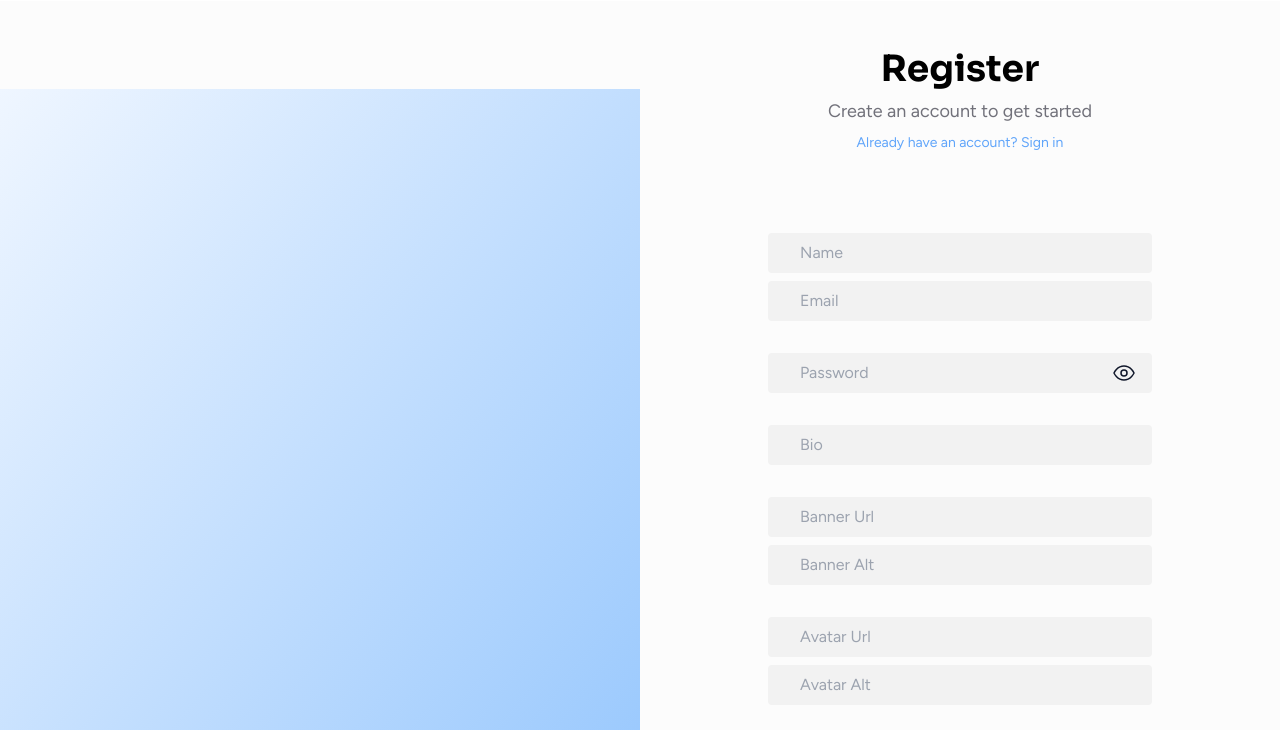
Test: Register Form Errors › should get error whith invalid banner url
Type "test" into the field with id "bannerUrl-input".
click(960, 517); type("test")  # box [768,497,1152,537]
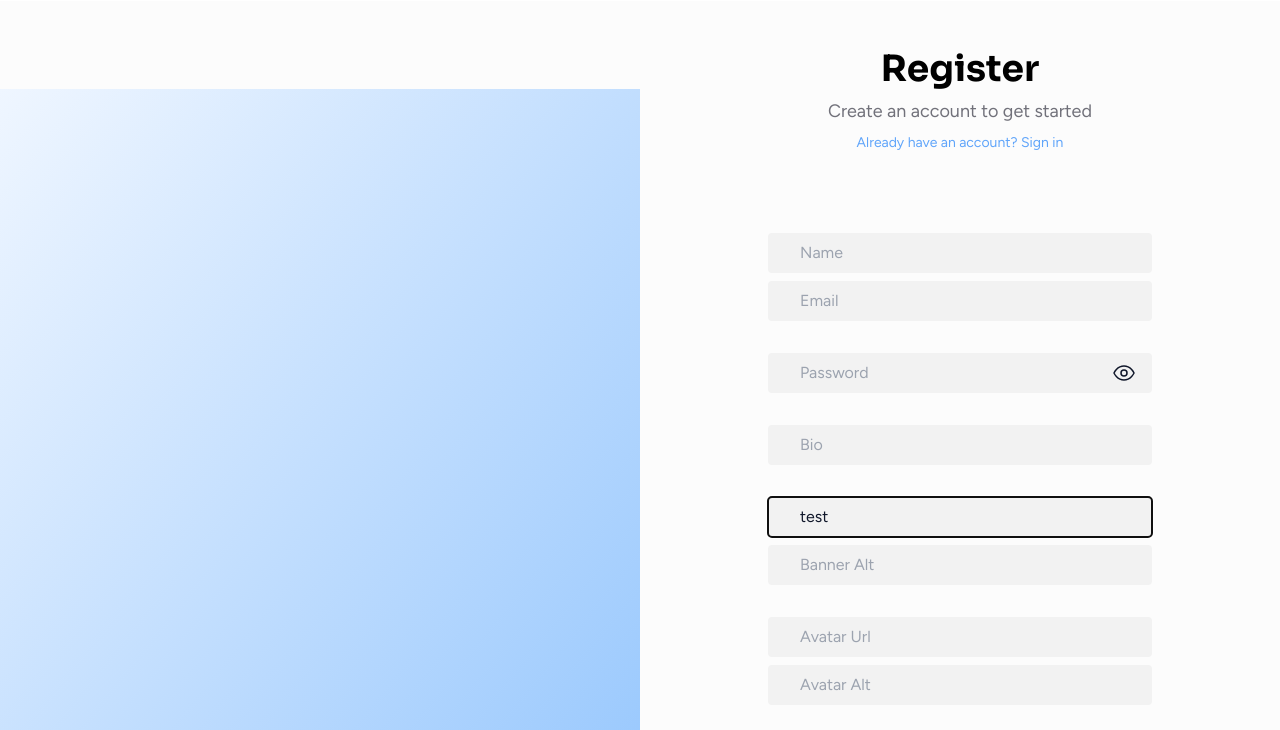
Scroll
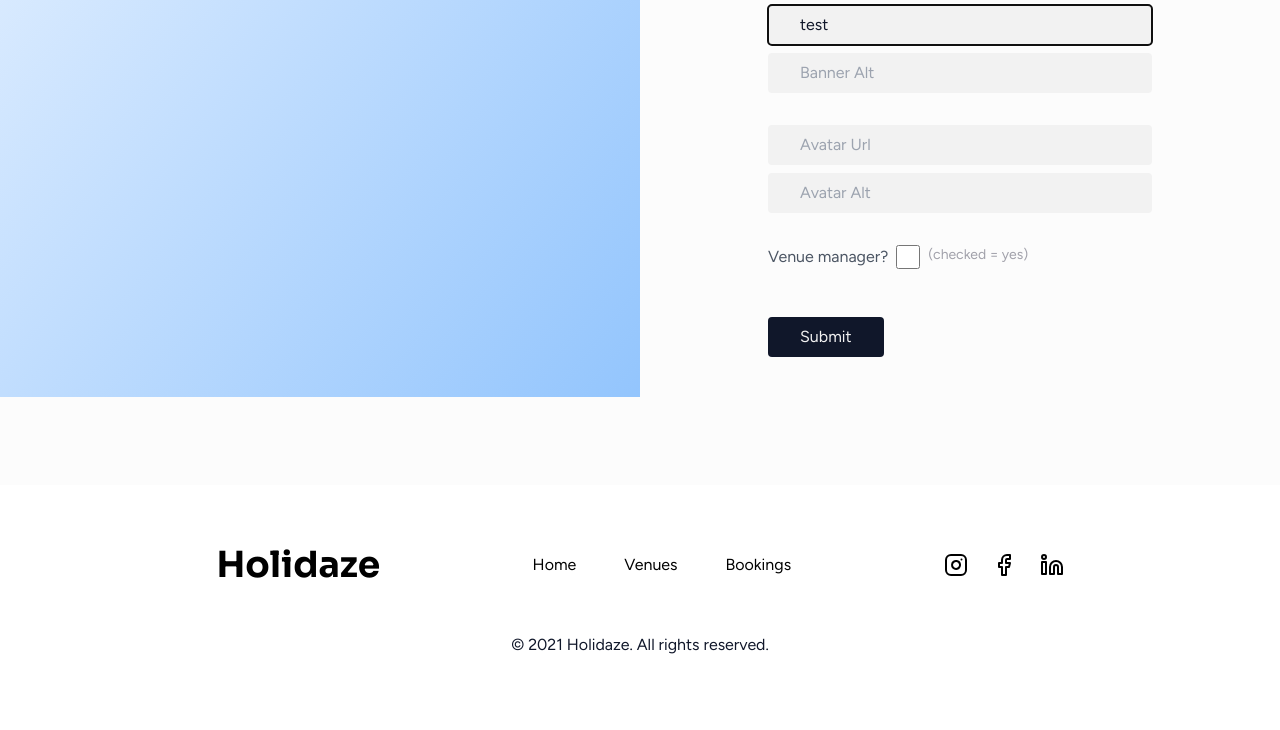
Click the button with id "submit-register-button".
click(826, 337)  # box [768,317,884,357]
(page scrolled)
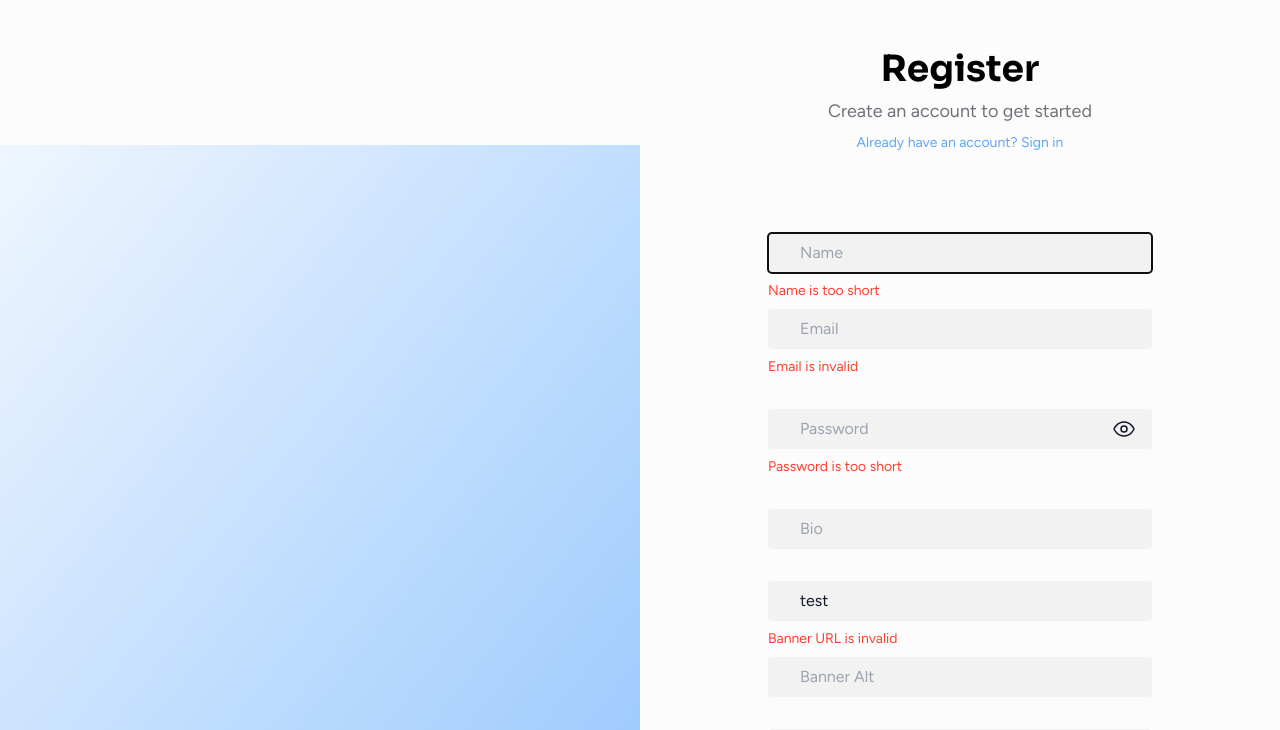
Expected: the text "Banner URL is invalid" is shown, [768,630,898,647]
